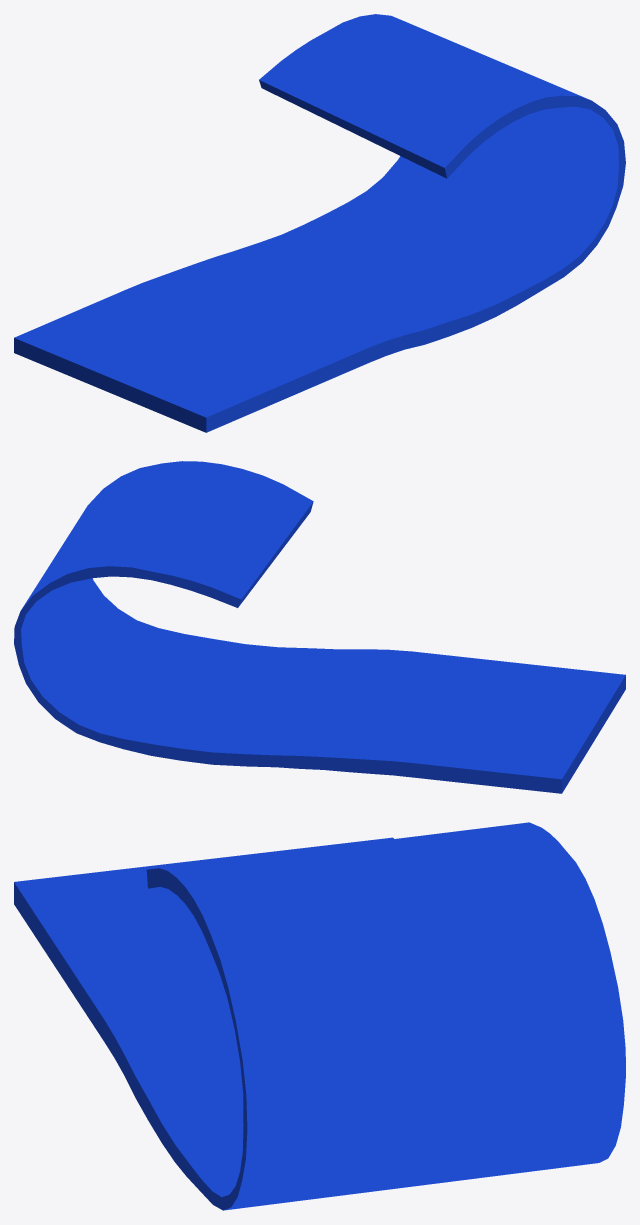
File: tensiometro.fbx
3 renders of one model, top to bottom at view 1: azimuth 30°, elevation 25°; view 2: azimuth 150°, elevation 25°; view 3: azimuth 270°, elevation 25°, orthographic. The views are drawn at different scales.
Parts seen in each view (by area): view 1: Cube; view 2: Cube; view 3: Cube.
Part boxes in pixels (x1=…): Cube: x1=14, y1=14, x2=625, y2=432; Cube: x1=14, y1=461, x2=625, y2=793; Cube: x1=14, y1=822, x2=625, y2=1210.
Size of the model in its own units: 21.9 by 7.48 by 14.14.
